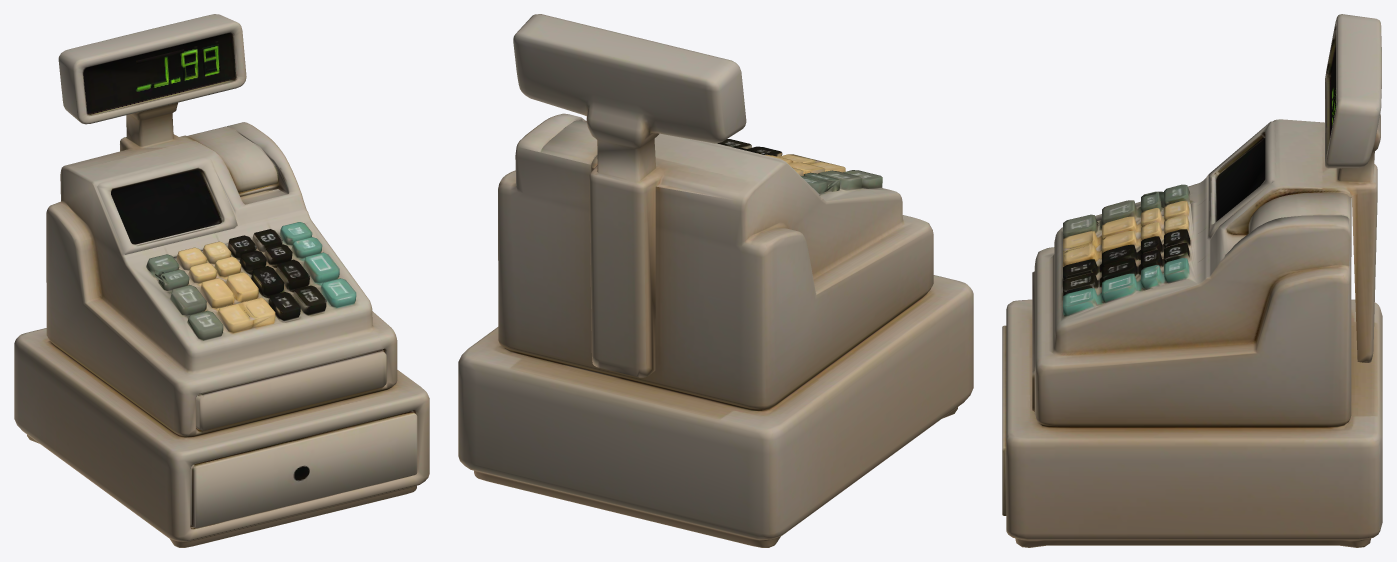
The model's file is cash_register_0c0dcad2_v3.glb.
The picture shows the model from 3 angles, left to right: view 1: azimuth 30°, elevation 25°; view 2: azimuth 150°, elevation 25°; view 3: azimuth 270°, elevation 25°; orthographic projection. The views are drawn at different scales.
Visible parts, largest first — view 1: material; view 2: material; view 3: material.
Boxes of the visible parts, box(x1,y1,x2,y2) form: material: box(14, 14, 429, 547); material: box(458, 14, 973, 547); material: box(1002, 14, 1382, 547).
Bounding box in the file's own units: 1.37 × 1.9 × 1.54.
1 material, 1 textured.
